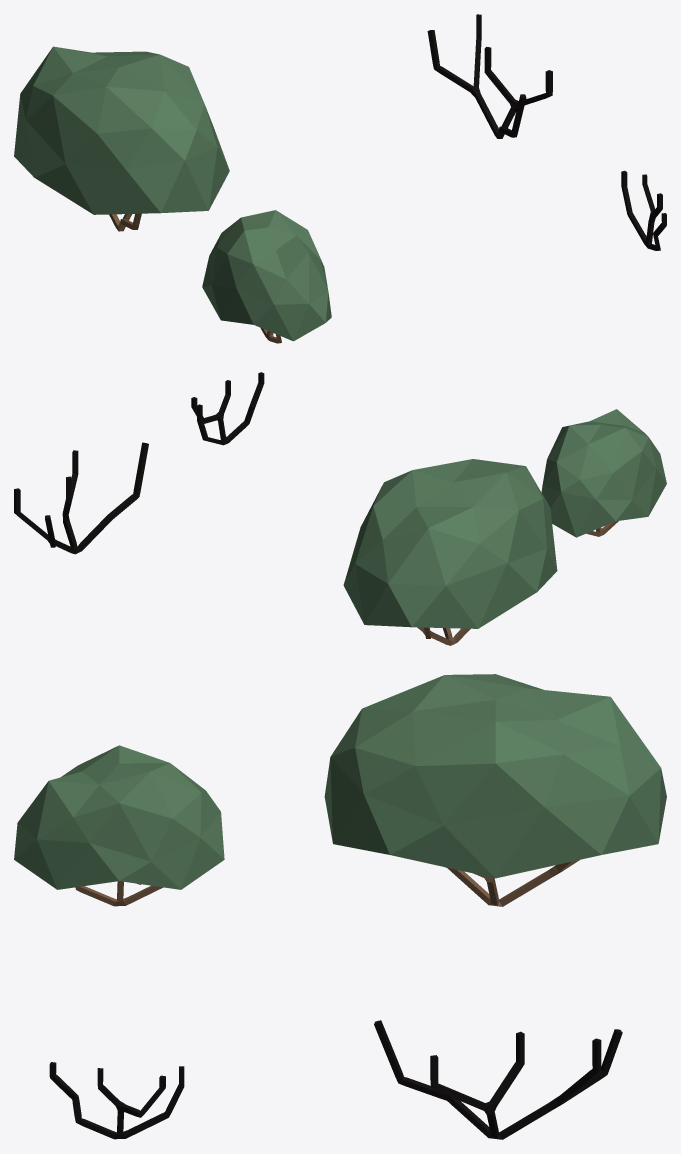
File: modelo_amazonia_arbustos.fbx
The picture shows the model from 3 angles, top to bottom: view 1: azimuth 30°, elevation 25°; view 2: azimuth 150°, elevation 25°; view 3: azimuth 270°, elevation 25°; orthographic projection. The views are drawn at different scales.
Parts seen in each view (by area): view 1: Amazonia Arbusto 2, Amazonia Arbusto 1, Amazonia Arbusto Morto 2, Amazonia Arbusto Morto 1; view 2: Amazonia Arbusto 2, Amazonia Arbusto 1, Amazonia Arbusto Morto 2, Amazonia Arbusto Morto 1; view 3: Amazonia Arbusto 2, Amazonia Arbusto 1, Amazonia Arbusto Morto 2, Amazonia Arbusto Morto 1.
Boxes of the visible parts, x1,y1,x2,y2 form: Amazonia Arbusto 2: (14,46,229,231); Amazonia Arbusto 1: (202,210,331,343); Amazonia Arbusto Morto 2: (427,14,552,138); Amazonia Arbusto Morto 1: (621,170,666,250); Amazonia Arbusto 2: (343,459,557,645); Amazonia Arbusto 1: (541,409,666,537); Amazonia Arbusto Morto 2: (14,442,148,554); Amazonia Arbusto Morto 1: (191,372,264,445); Amazonia Arbusto 2: (324,674,666,906); Amazonia Arbusto 1: (14,745,224,906); Amazonia Arbusto Morto 2: (374,1020,622,1139); Amazonia Arbusto Morto 1: (49,1062,184,1139).
Bounding box in the file's own units: 495 × 159 × 450.
